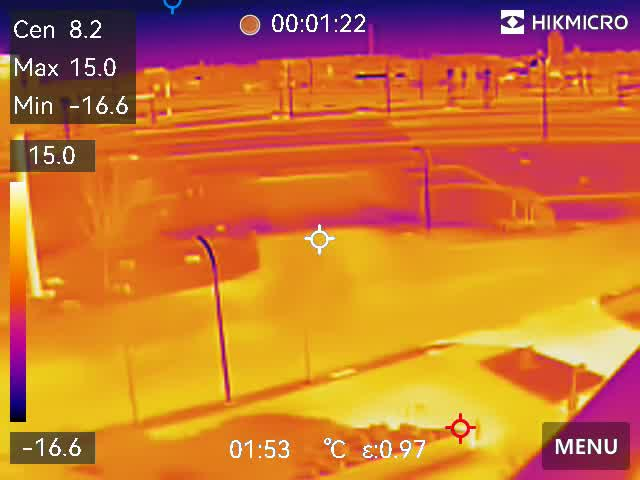vehicle: (103, 149, 143, 163), (347, 106, 375, 118), (268, 111, 294, 123)
